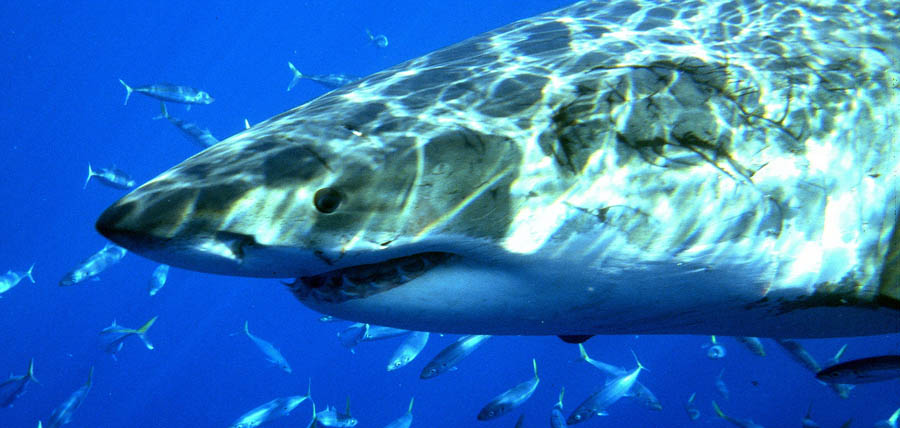Carcharodon_carcharias: (71, 1, 900, 369)
